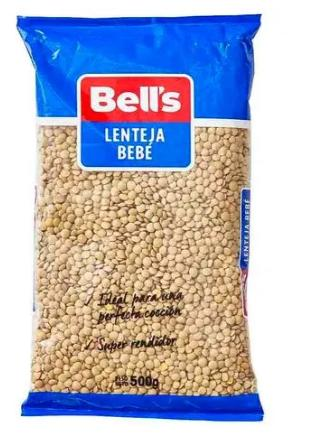brand: (84, 76, 196, 123)
net_weight: (128, 369, 167, 393)
product_name: (90, 123, 174, 167)
